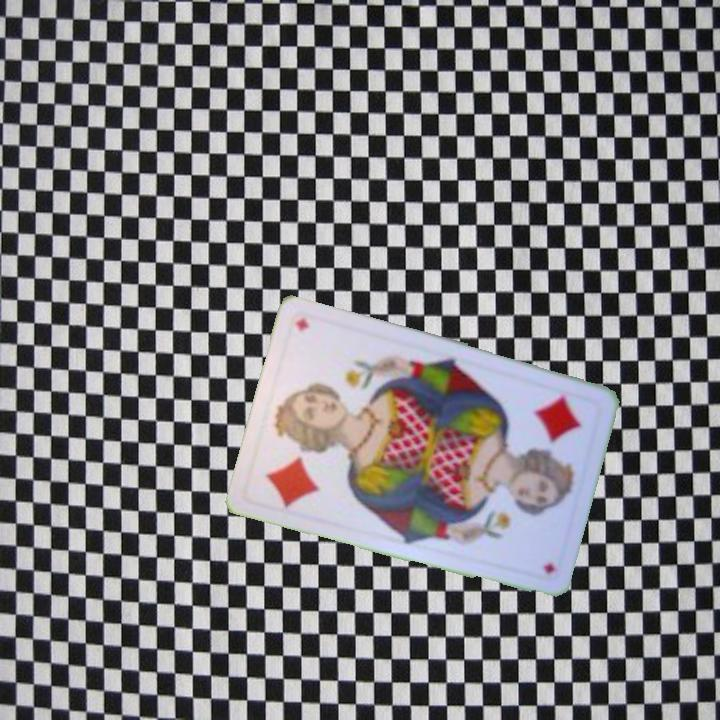d_q.png: (495, 375, 603, 493), (242, 404, 350, 521)
